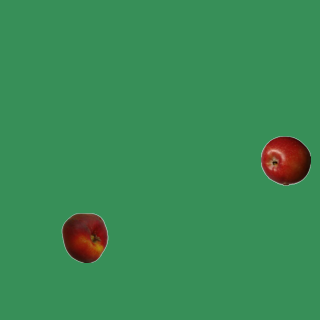Apple Braeburn: (260, 135, 310, 185)
Nectarine Flat: (59, 212, 109, 262)
